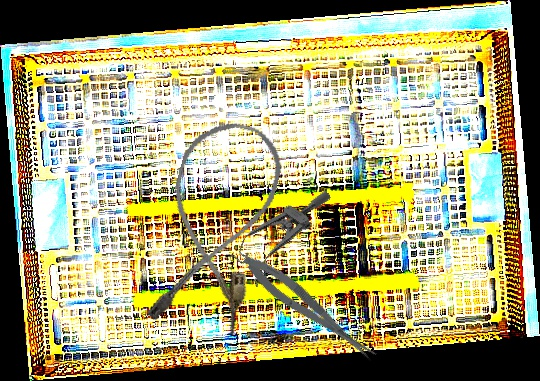Cannula: (140, 110, 291, 342)
Micro Scissor: (237, 247, 381, 371)
Speculum: (223, 167, 333, 294)
